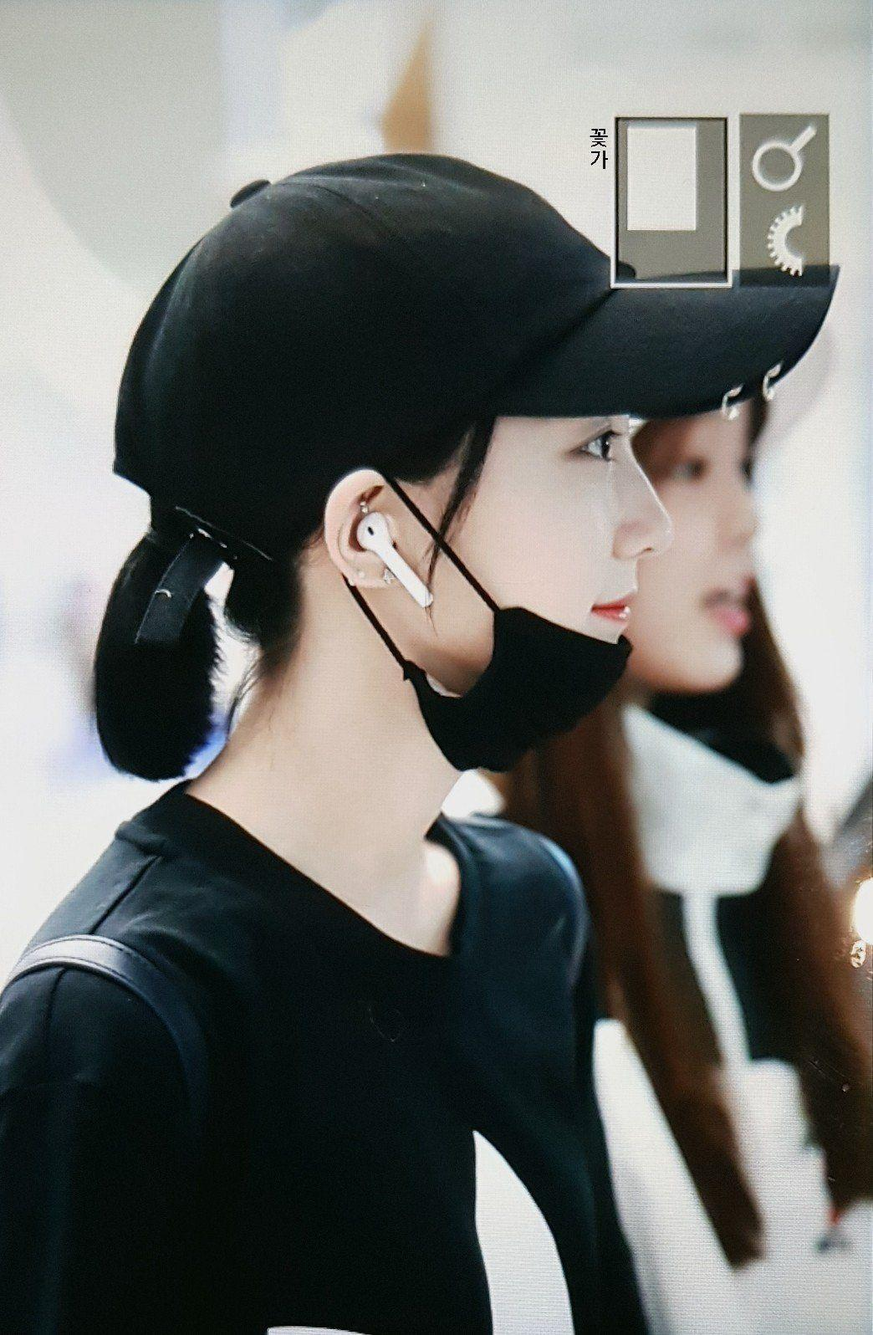earphone: (352, 506, 450, 622)
